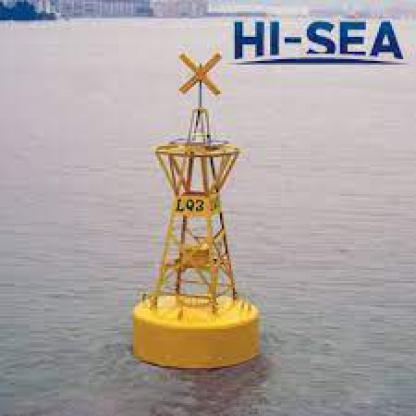buoy: (124, 41, 266, 375)
